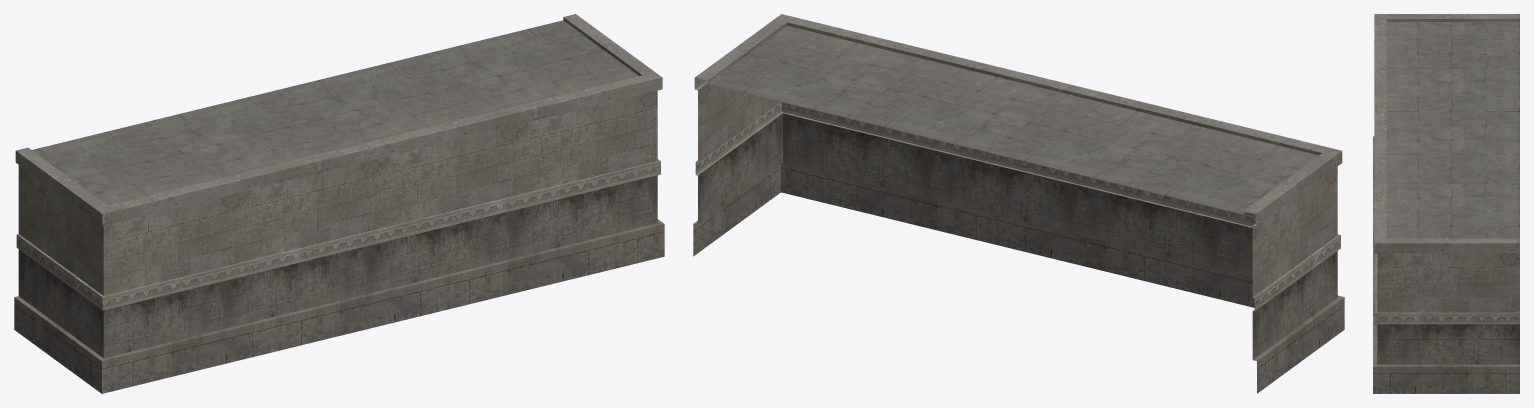
File: bg_lut_lucastle_house06_sm_sup.FBX
3 views of the same model, side by side, from view 1: azimuth 30°, elevation 25°; view 2: azimuth 150°, elevation 25°; view 3: azimuth 270°, elevation 25° (orthographic). The views are drawn at different scales.
Visible parts, largest first — view 1: bg_lut_lucastle_house06_sm_sup; view 2: bg_lut_lucastle_house06_sm_sup; view 3: bg_lut_lucastle_house06_sm_sup.
Part boxes in pixels (x1=…): bg_lut_lucastle_house06_sm_sup: x1=14, y1=14, x2=664, y2=393; bg_lut_lucastle_house06_sm_sup: x1=693, y1=14, x2=1344, y2=393; bg_lut_lucastle_house06_sm_sup: x1=1373, y1=14, x2=1519, y2=393.
Size of the model in its own units: 719 by 219 by 194.
